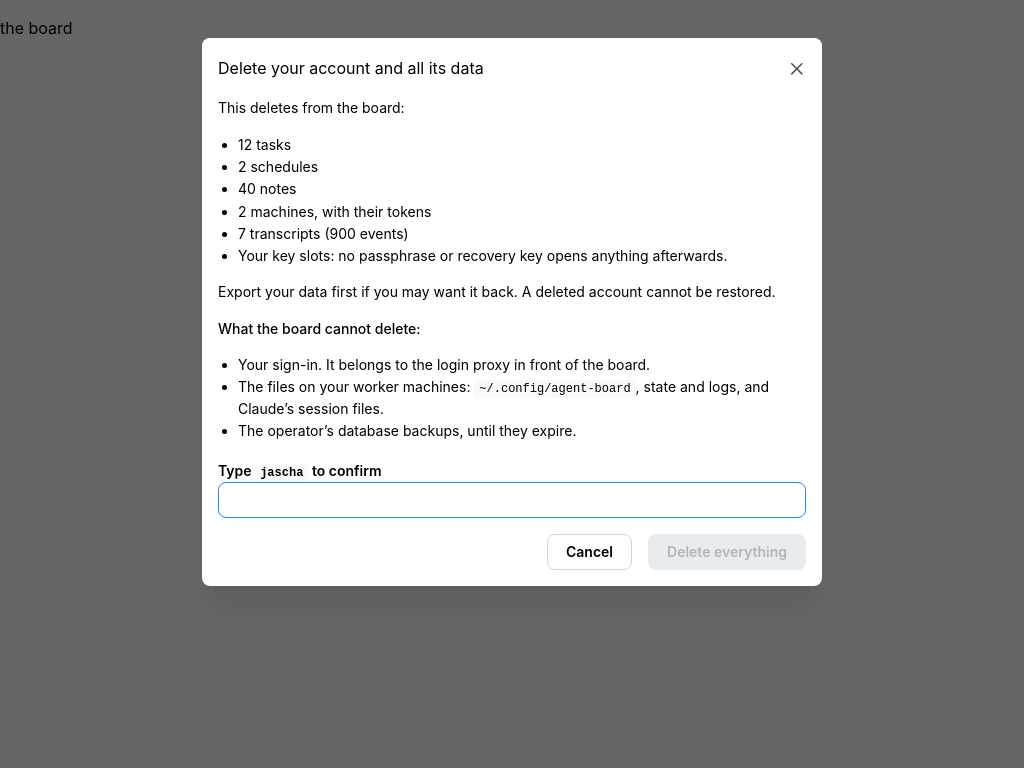
Test: DeleteAccountModal › keeps the button disabled until the username is typed exactly
Expected: the button "Delete everything" is disabled, [648,534,806,570]
Type "jasch" into the field labelled "Type jascha to confirm" at (512, 500), box [218,482,806,518]
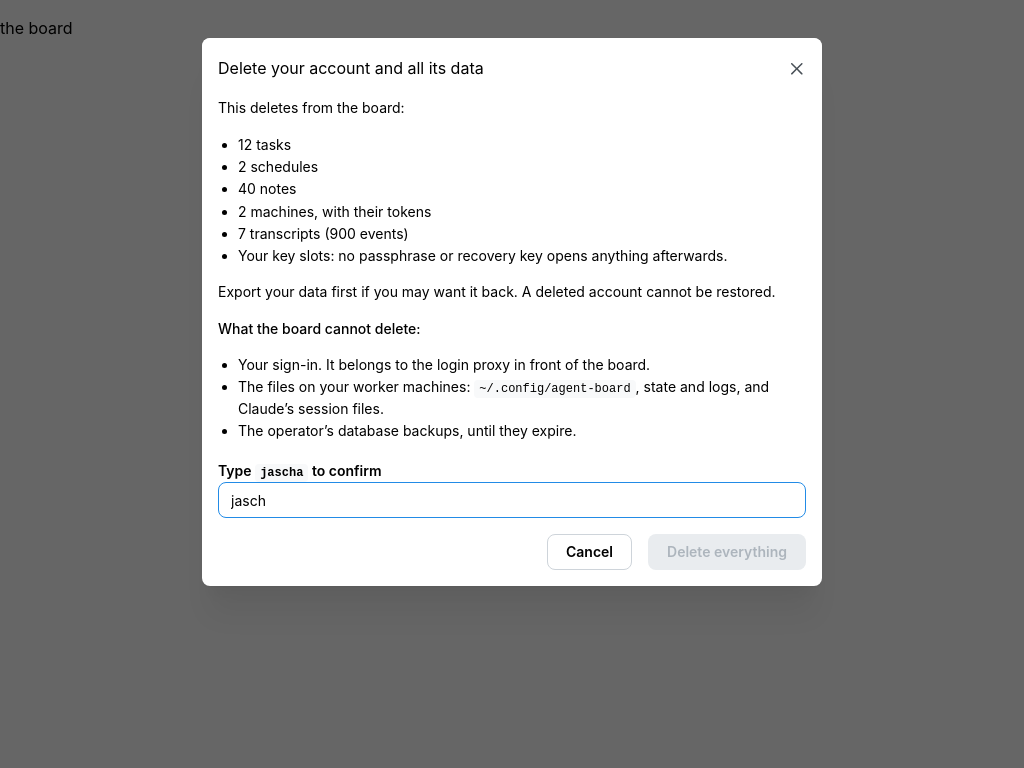
Expected: the button "Delete everything" is disabled, [648,534,806,570]
Type "a" into the field labelled "Type jascha to confirm" at (512, 500), box [218,482,806,518]
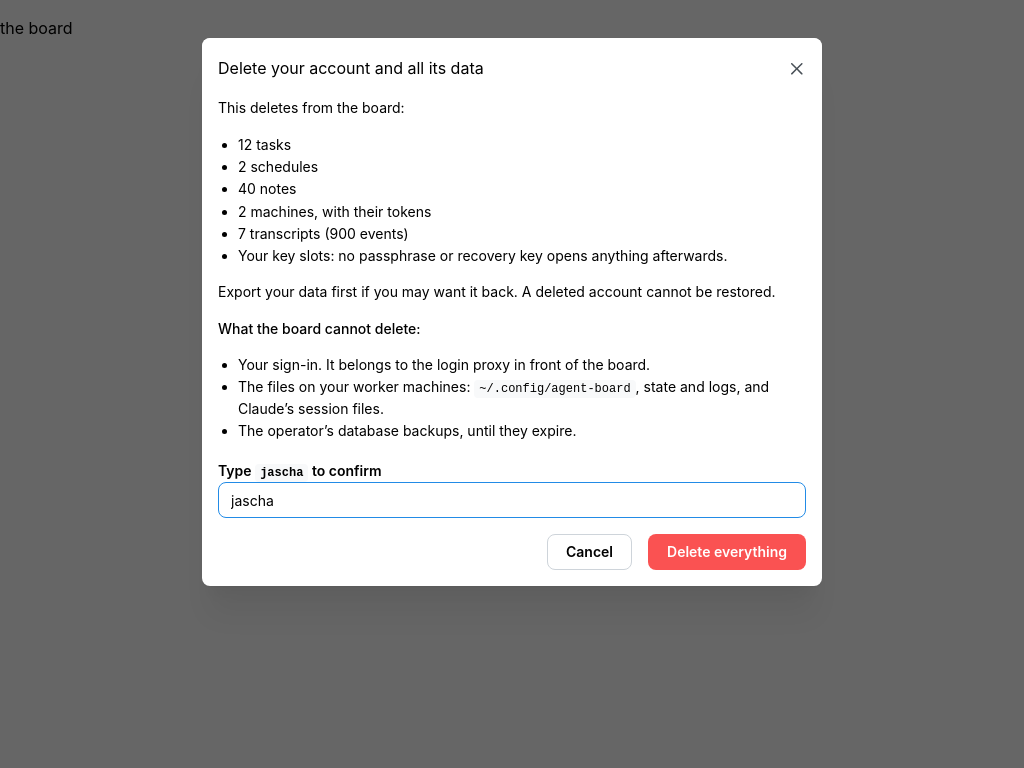
Now the button "Delete everything" is enabled, box [648,534,806,570]
